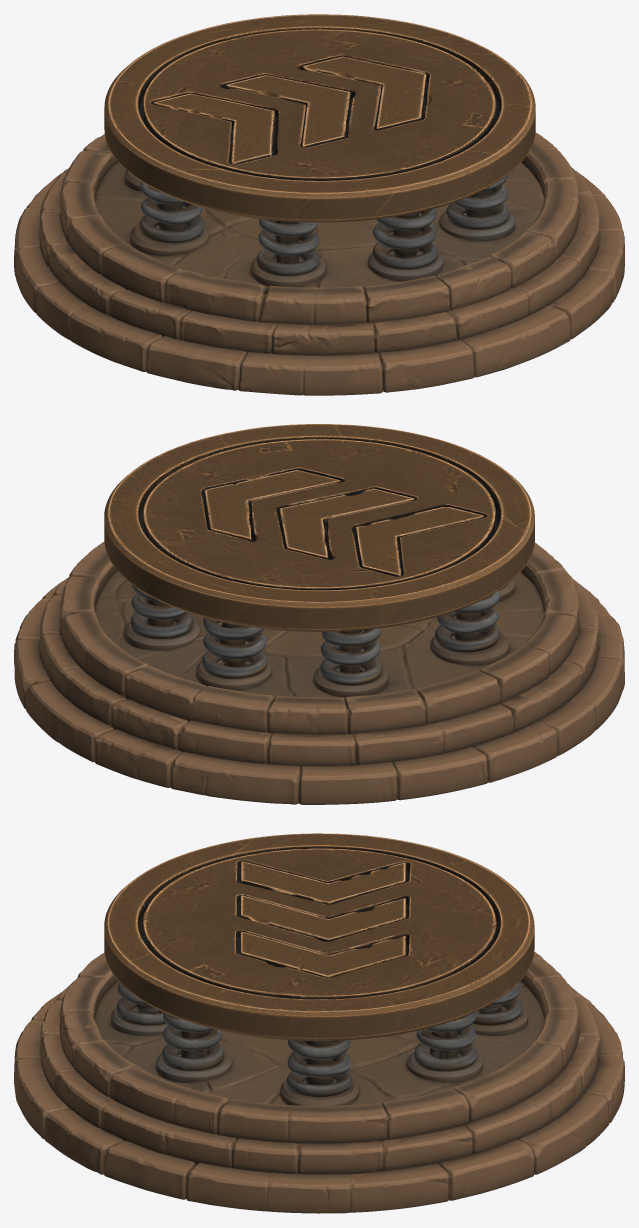
The model's file is jump_pad_high.glb.
3 views of the same model, one above another, from view 1: azimuth 30°, elevation 25°; view 2: azimuth 150°, elevation 25°; view 3: azimuth 270°, elevation 25° (orthographic).
Bounding box in the file's own units: 1.9 × 0.5584 × 1.9.
Materials: 1 (1 with a texture image).
